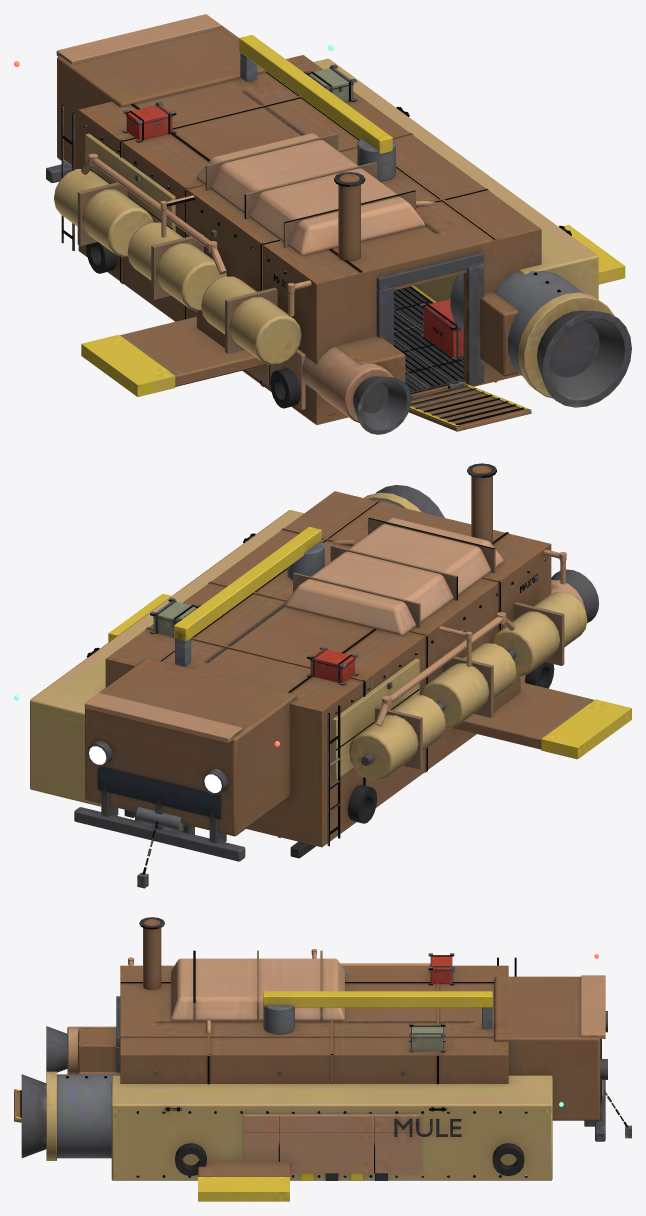
File: mule.glb
The picture shows the model from 3 angles, top to bottom: view 1: azimuth 30°, elevation 25°; view 2: azimuth 150°, elevation 25°; view 3: azimuth 270°, elevation 25°; orthographic projection. The views are drawn at different scales.
Visible parts, largest first — view 1: hull, ramp.001; view 2: hull, glass; view 3: hull.
Boxes of the visible parts, bbox=[...] form: hull: bbox=[46, 14, 631, 434]; ramp.001: bbox=[408, 384, 531, 431]; hull: bbox=[30, 463, 631, 888]; glass: bbox=[97, 766, 220, 819]; hull: bbox=[21, 917, 631, 1201].
Bounding box in the file's own units: 13.01 × 6 × 17.52.
Materials: 20 (15 with a texture image).
